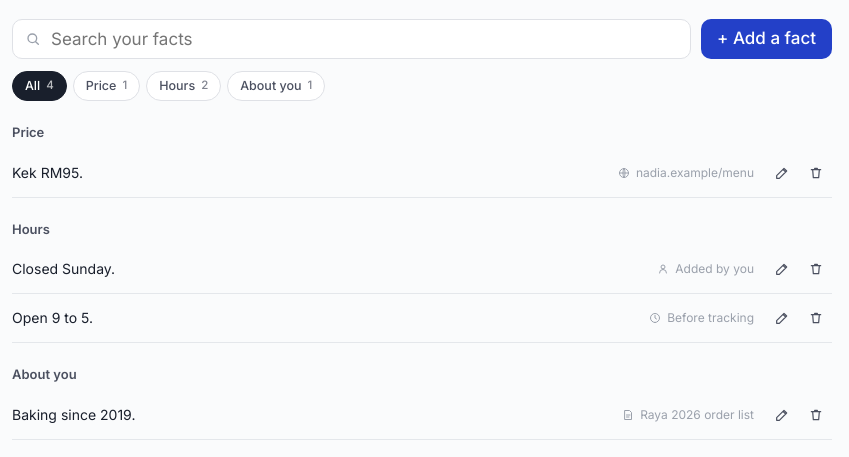
FactList › says so when a search matches nothing, and keeps the no-facts message for no facts
Step 1. Type "zzzz" into the search field named "Search facts" → (364, 39), box [49,20,678,58]
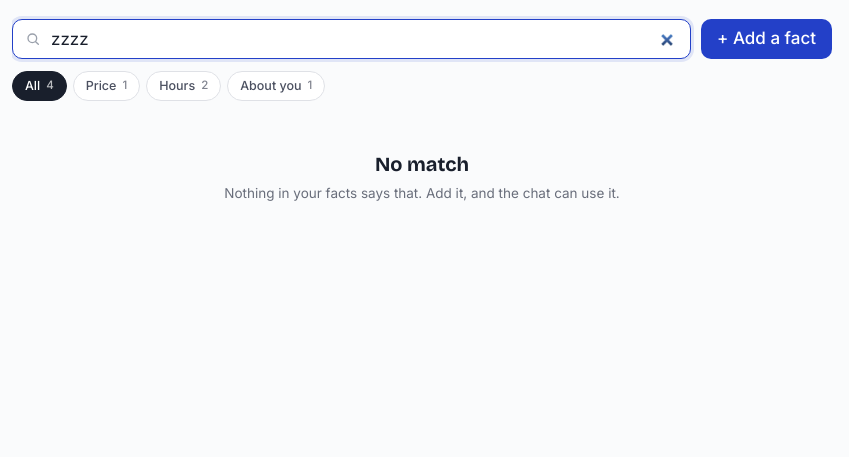
Expected: the text "No match" is shown, [375,152,469,176]
